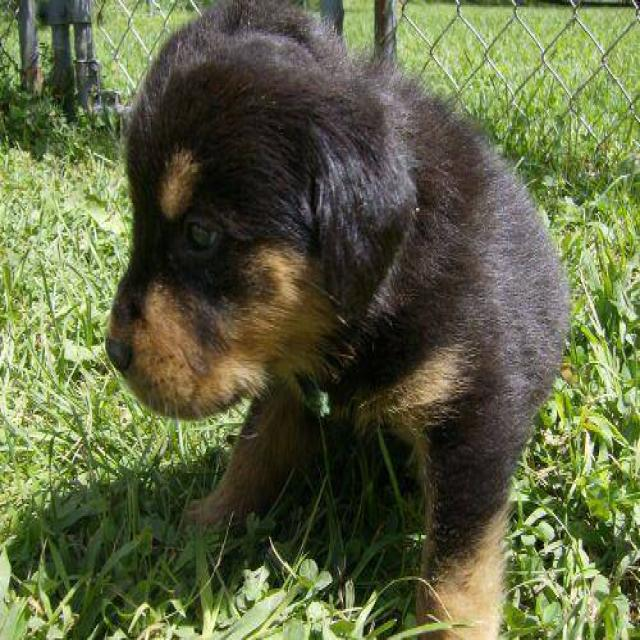dog: (102, 0, 570, 638)
